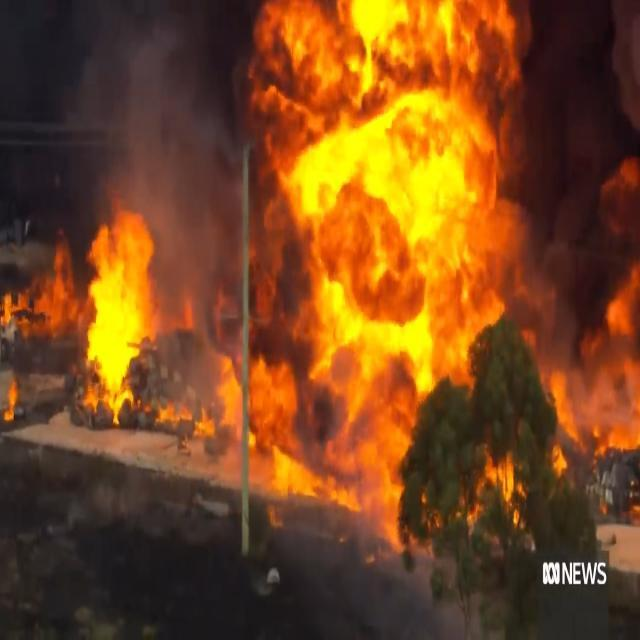fire: (15, 0, 508, 524)
